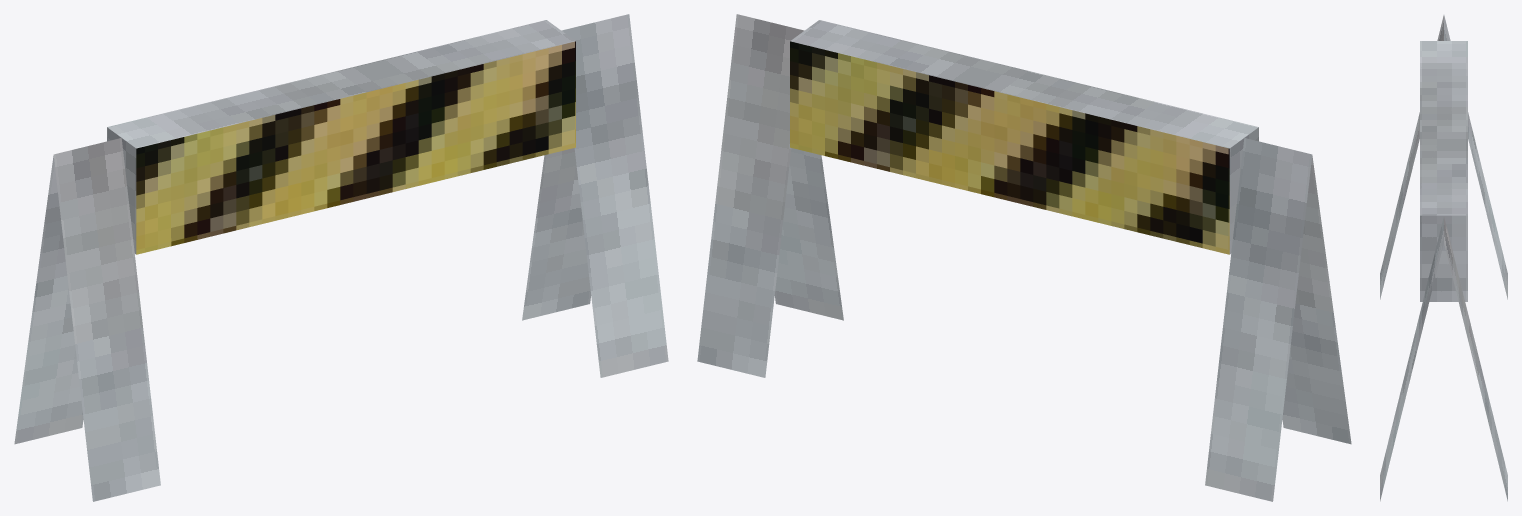
File: kenney-retro-urban-detail-barrier-type-b.glb
The picture shows the model from 3 angles, left to right: view 1: azimuth 30°, elevation 25°; view 2: azimuth 150°, elevation 25°; view 3: azimuth 270°, elevation 25°; orthographic projection. The views are drawn at different scales.
Visible parts, largest first — view 1: detail-barrier-type-b; view 2: detail-barrier-type-b; view 3: detail-barrier-type-b.
Part boxes in pixels (left/top/right/bottom): detail-barrier-type-b: left=14, top=14, right=668, bottom=501; detail-barrier-type-b: left=697, top=14, right=1351, bottom=501; detail-barrier-type-b: left=1380, top=15, right=1507, bottom=501.
Bounding box in the file's own units: 0.567 × 0.3 × 0.134.
2 materials, 2 textured.
